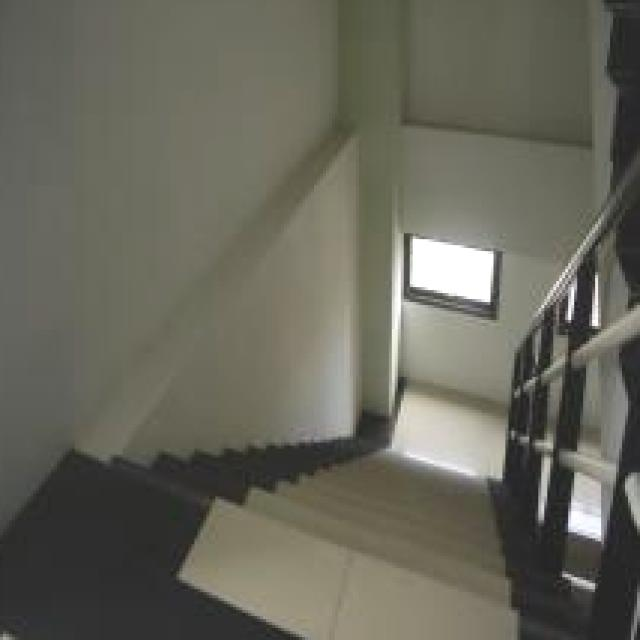downstair: (205, 459, 507, 617)
